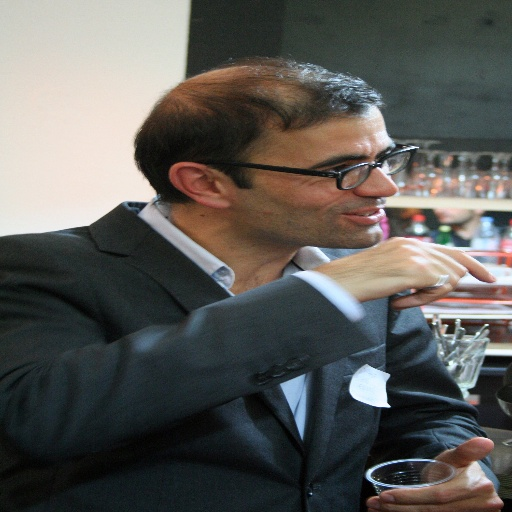hand: (304, 234, 499, 312), (365, 435, 505, 511)
